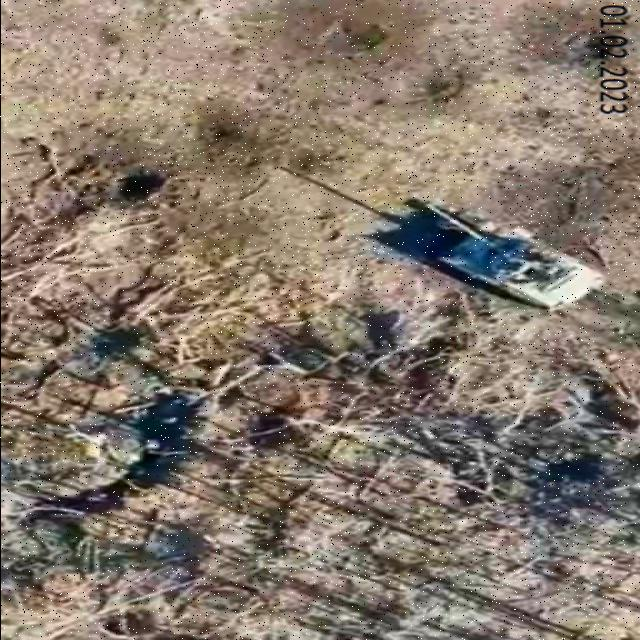TANK: (394, 196, 614, 315)
